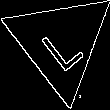L_NW: (33, 13, 87, 72)
